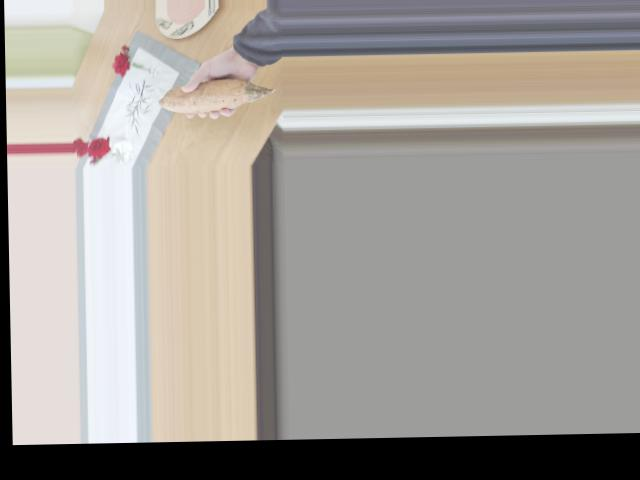sweet_potato: (155, 68, 265, 118)
